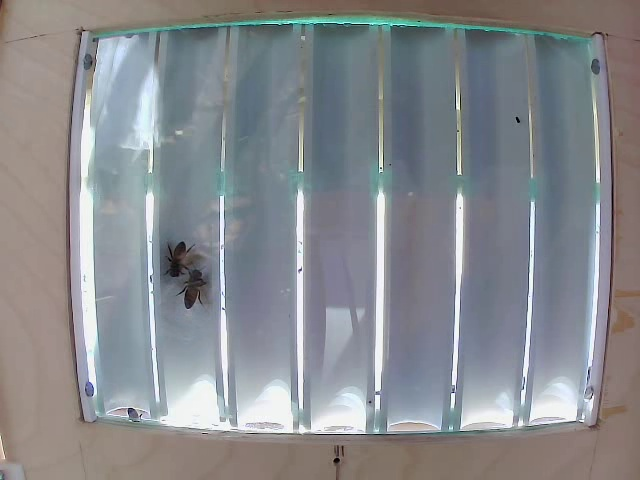bee: (174, 271, 220, 318), (158, 236, 192, 276)
